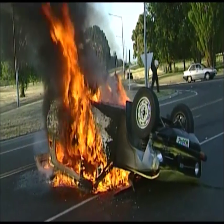fire_h: (41, 2, 112, 182), (91, 168, 130, 194), (52, 170, 79, 190), (118, 75, 130, 106)
fire_l: (43, 155, 54, 169), (106, 82, 112, 95)
